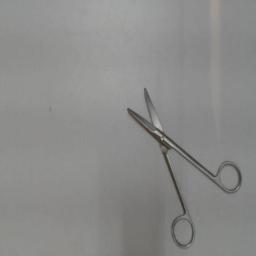Curved Mayo Scissors: (122, 80, 246, 252)
